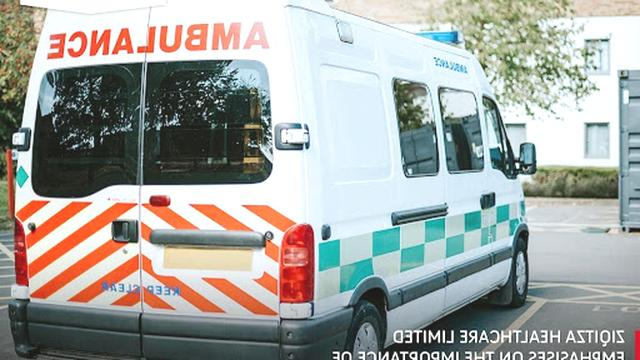ambulance: (7, 0, 541, 358)
